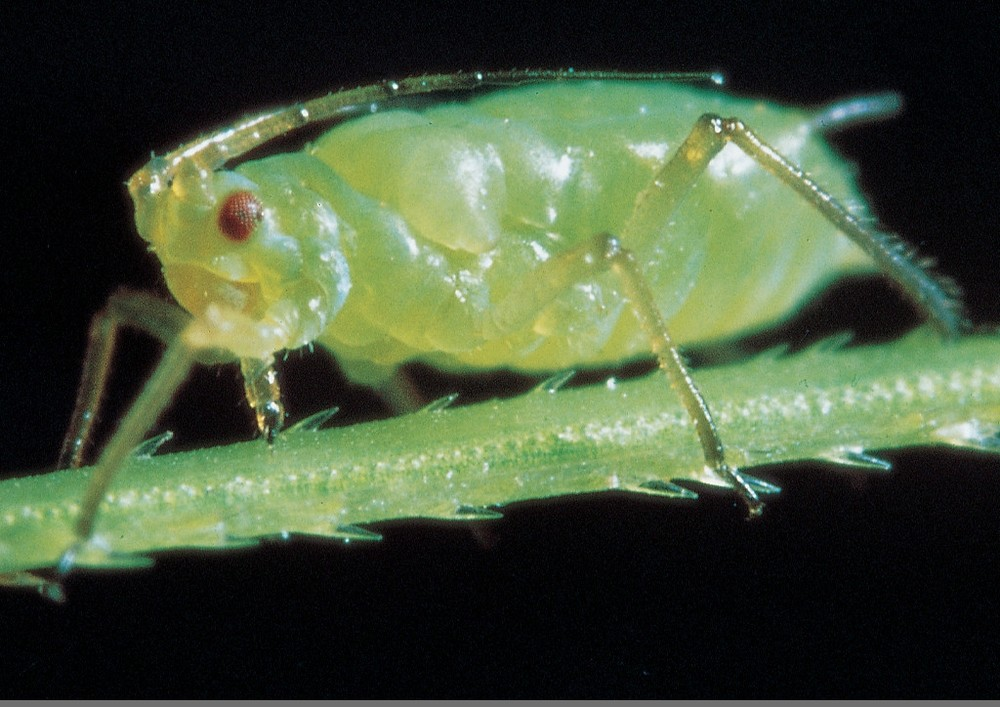Pulgon: (73, 42, 970, 515)
